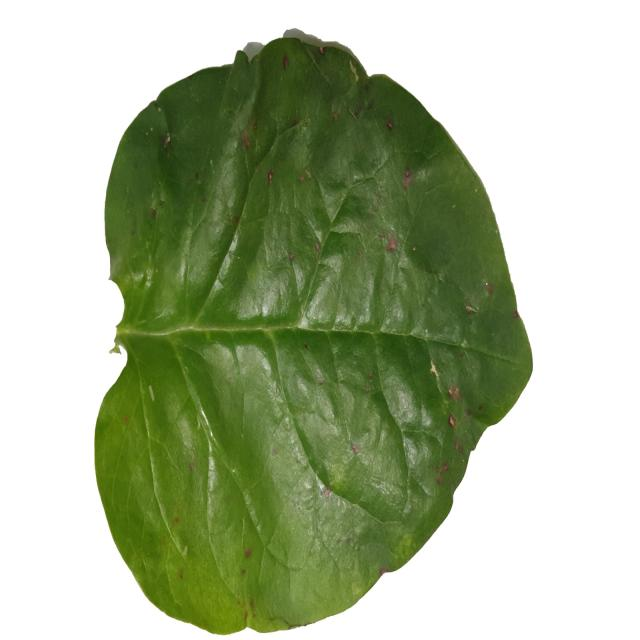Medicinal-Basale: (95, 35, 537, 632)
